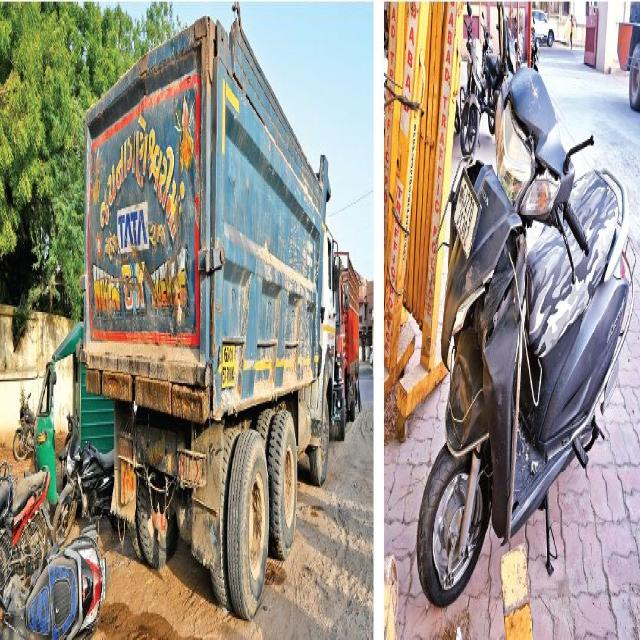accident: (418, 68, 630, 605), (0, 526, 105, 640)
autorickshaw: (34, 323, 114, 504)
motorcycle: (52, 435, 114, 542)
truck: (84, 10, 335, 618)
